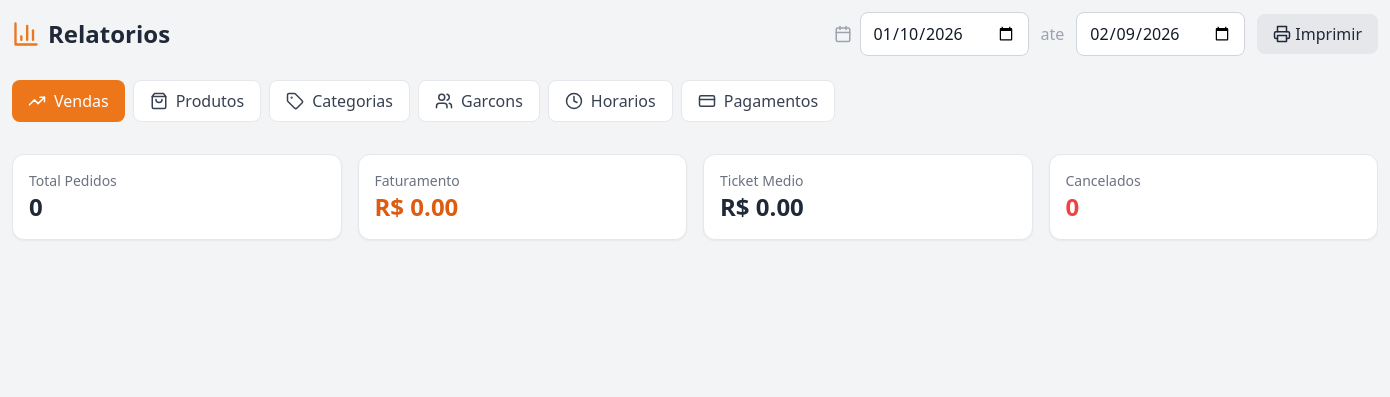
Relatorios - Pagamentos tab › renderiza tabela de pagamentos com dados corretos
// Navegar para aba Pagamentos
Click the button "Pagamentos" at (758, 101), box [681,80,835,122]
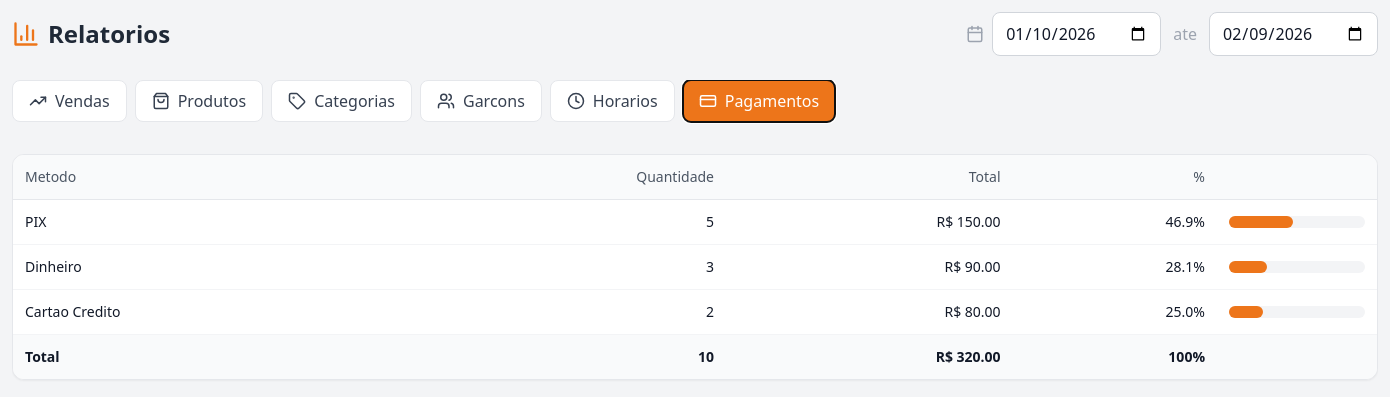
expect the text "PIX" is shown: met, box [13,200,398,244]
expect the text "Dinheiro" is shown: met, box [13,244,398,290]
expect the text "Cartao Credito" is shown: met, box [13,290,398,334]
